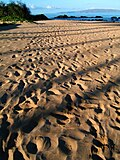human_foot_print: (16, 112, 48, 135), (58, 133, 83, 156), (102, 83, 120, 114), (28, 135, 57, 153), (88, 136, 108, 158), (51, 107, 70, 126), (71, 78, 91, 95), (20, 61, 37, 80), (84, 114, 98, 136), (30, 40, 50, 55), (105, 42, 115, 71), (10, 78, 27, 95), (43, 79, 58, 97), (30, 84, 40, 105), (48, 59, 68, 69), (73, 50, 84, 64), (88, 50, 98, 61)
